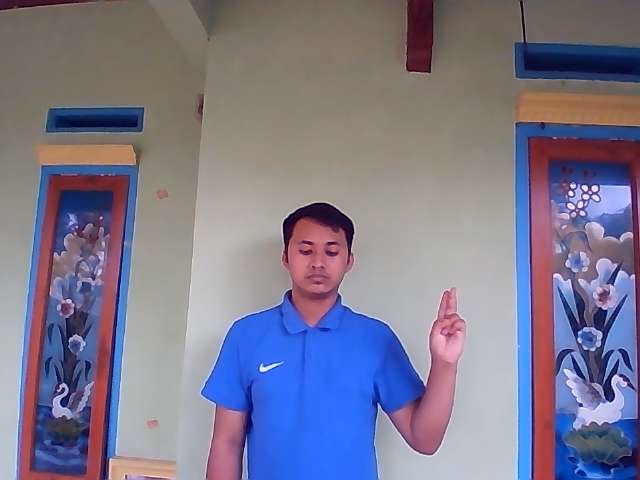U: (428, 286, 467, 362)
